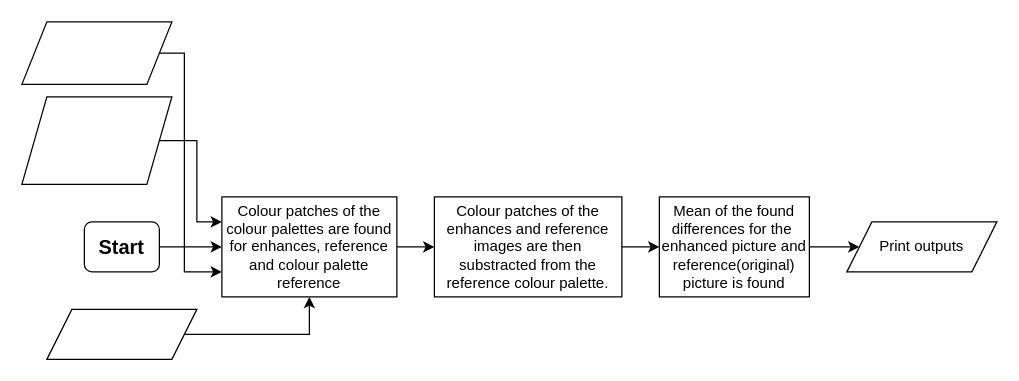
Image size: 1019x381. Some labels were removed from this diagram. Each missing label, with the centre of its shape:
"Enhanced image Colour palette" belongs at point (96, 52).
"Original image colour palette (reference image colour palette)" belongs at point (96, 140).
"Reference colour palette" belongs at point (121, 333).
